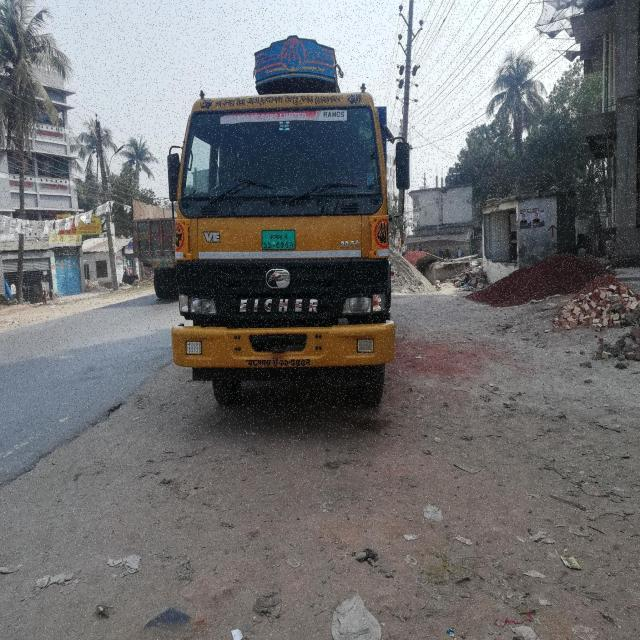numberplate: (256, 228, 310, 255)
